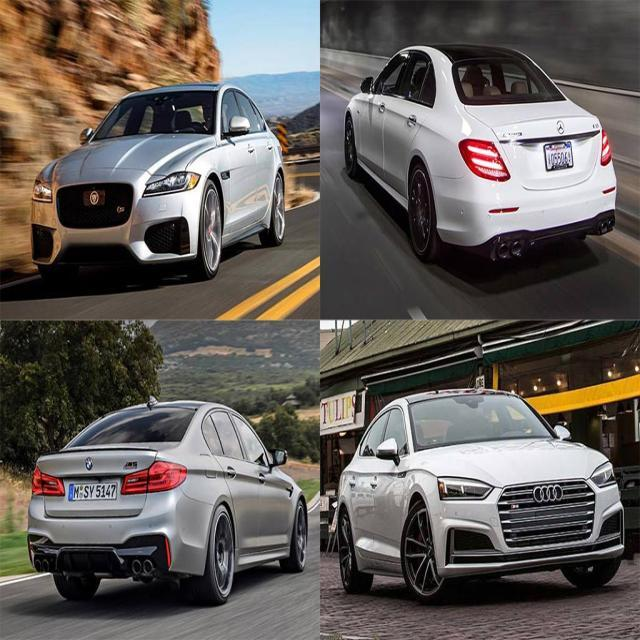pickup: (334, 385, 624, 603), (343, 41, 618, 265), (26, 396, 308, 606), (30, 80, 286, 284)
